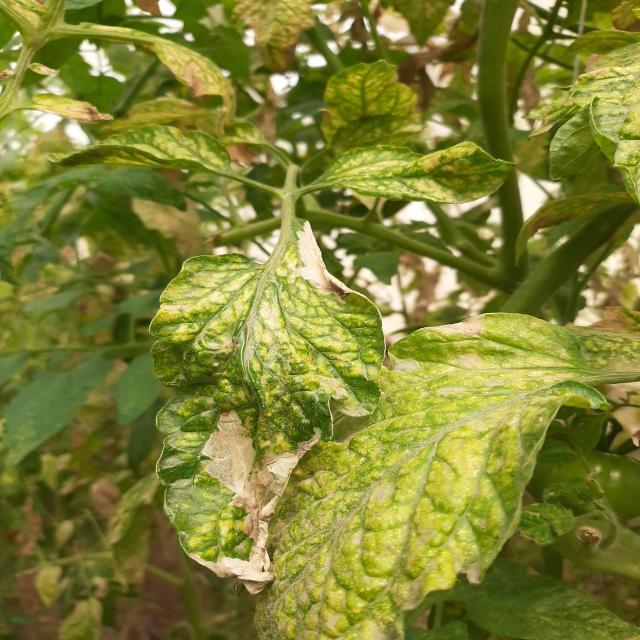Tuta absoluta: (190, 519, 293, 612), (186, 408, 277, 512), (273, 220, 369, 312), (259, 428, 337, 498)
